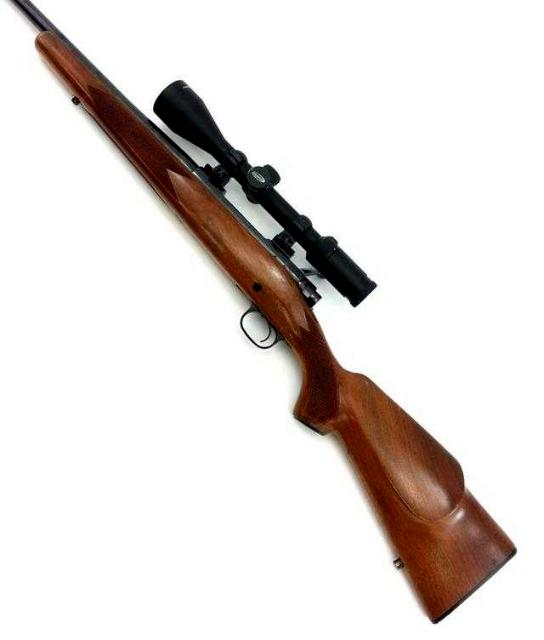rifle: (0, 1, 538, 636)
